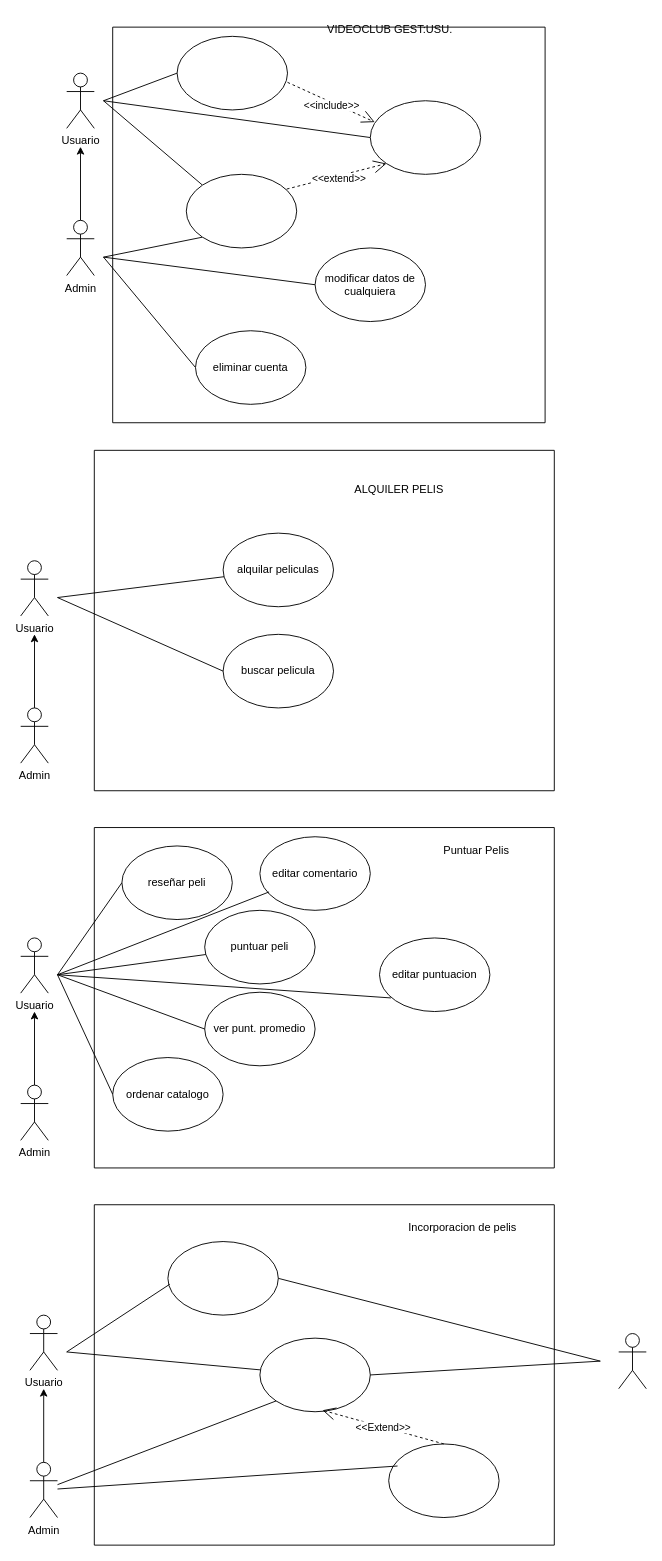
Some shapes in this 662 by 1561 pixel diagram are drawn without their labels. Each missing label, with the centre of its shape:
actualizar datos personales: [232,72]
Api: [632,1361]
Añadir pelicua al catalago: [443,1480]
explorar catalogo ampliado: [222,1278]
iniciar sesion _________ -si no registrado: [425,137]
registrarse: [241,210]
solicitar nueva peli ____________ si valida: [314,1374]
